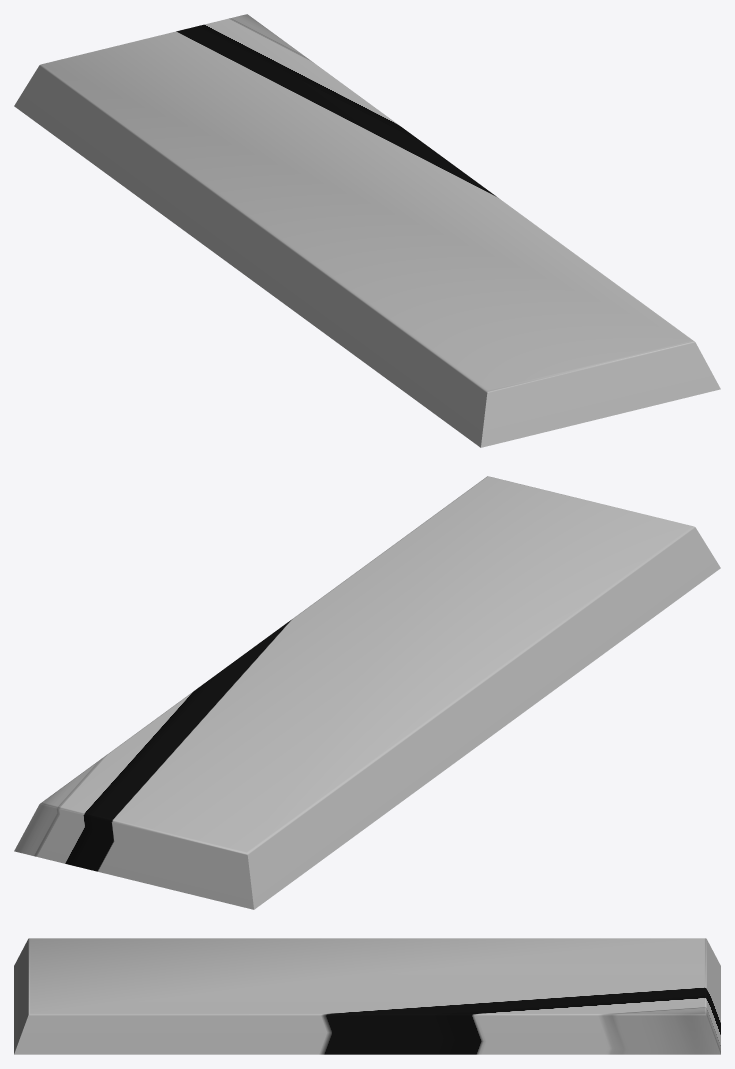
File: Fridge_Door_B_0.obj
The picture shows the model from 3 angles, top to bottom: view 1: azimuth 30°, elevation 25°; view 2: azimuth 150°, elevation 25°; view 3: azimuth 270°, elevation 25°; orthographic projection. The views are drawn at different scales.
Size of the model in its own units: 0.4719 by 0.0853 by 1.59.
